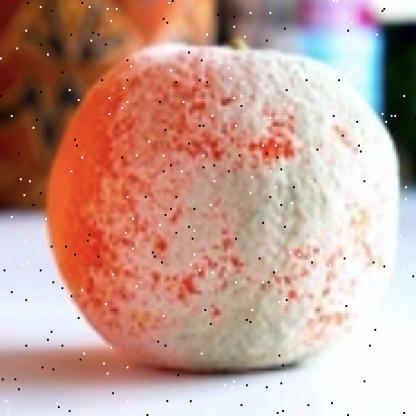rotten: (44, 43, 403, 372)
